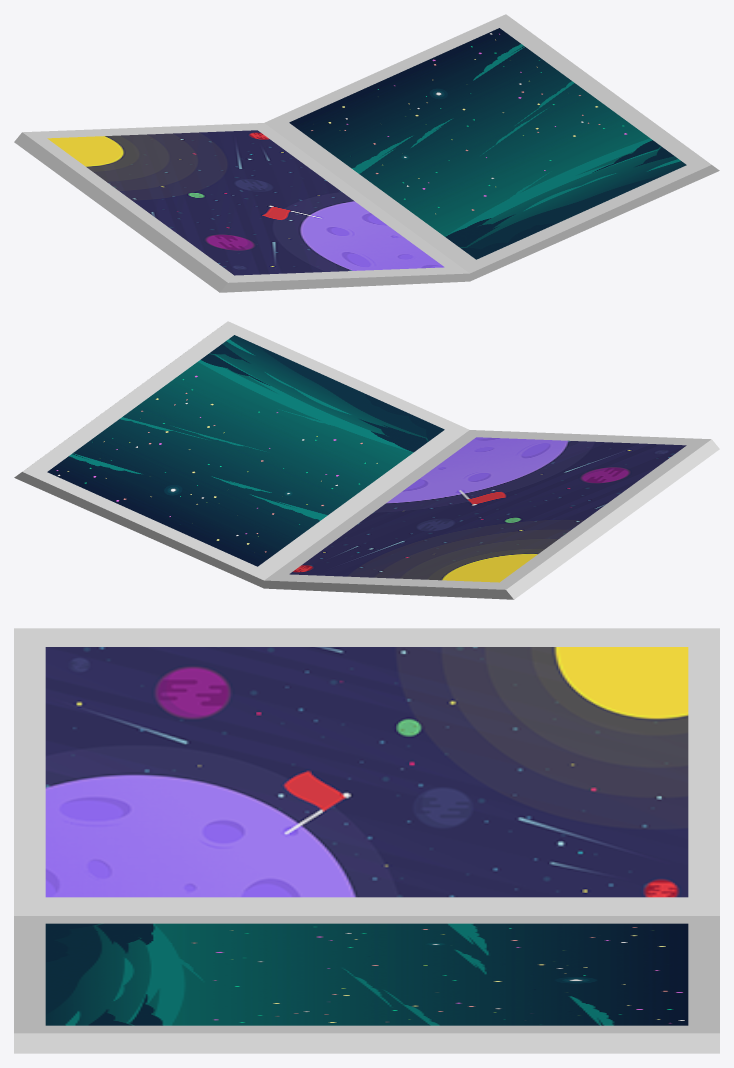
The model's file is comic(1).fbx.
The picture shows the model from 3 angles, top to bottom: view 1: azimuth 30°, elevation 25°; view 2: azimuth 150°, elevation 25°; view 3: azimuth 270°, elevation 25°; orthographic projection. The views are drawn at different scales.
Parts seen in each view (by area): view 1: Plane.001, Plane; view 2: Plane.001, Plane; view 3: Plane.001, Plane.
Boxes of the visible parts, left/top/right/bottom form: Plane.001: left=47, top=28, right=686, bottom=275; Plane: left=14, top=14, right=719, bottom=292; Plane.001: left=47, top=335, right=686, bottom=582; Plane: left=14, top=321, right=719, bottom=599; Plane.001: left=45, top=647, right=688, bottom=1025; Plane: left=14, top=628, right=719, bottom=1053.
Size of the model in its own units: 281 by 30.97 by 200.
